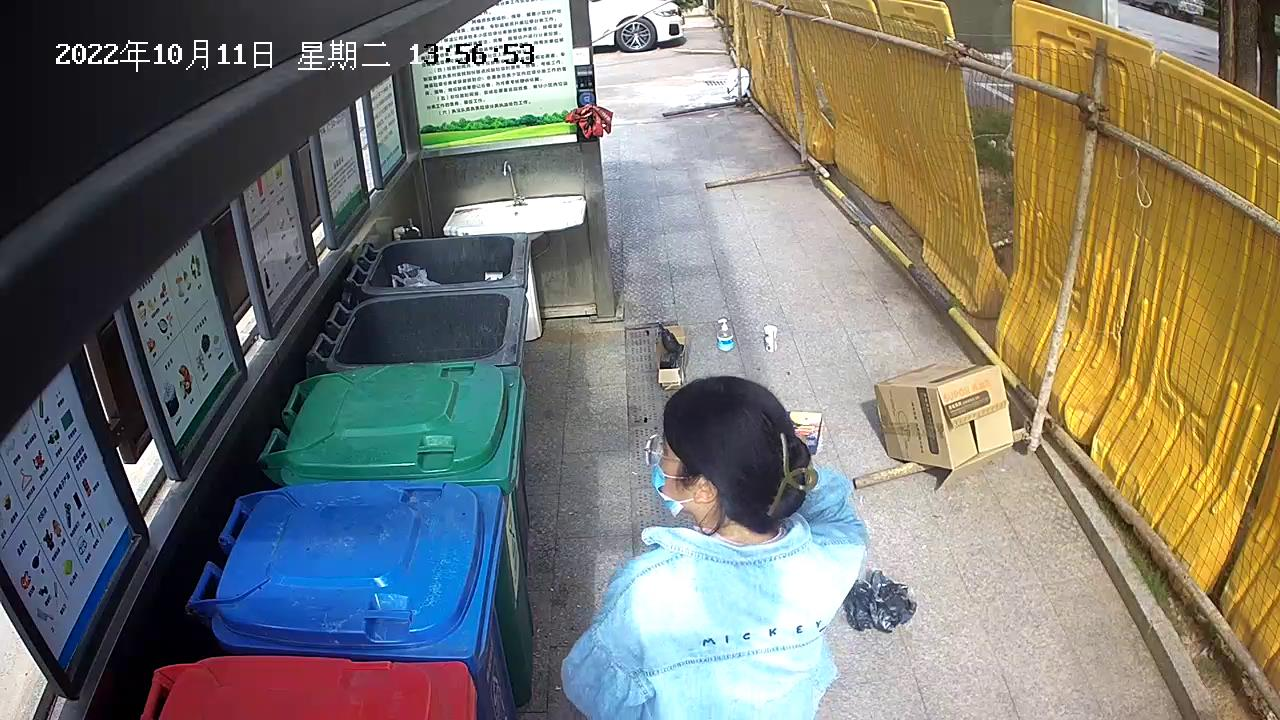garbage-bag: (840, 562, 922, 637)
lvzhipin: (758, 321, 783, 356)
suliaozhipin: (709, 312, 736, 356)
worker: (554, 371, 877, 720)
zhizhipin: (873, 357, 1023, 498)
